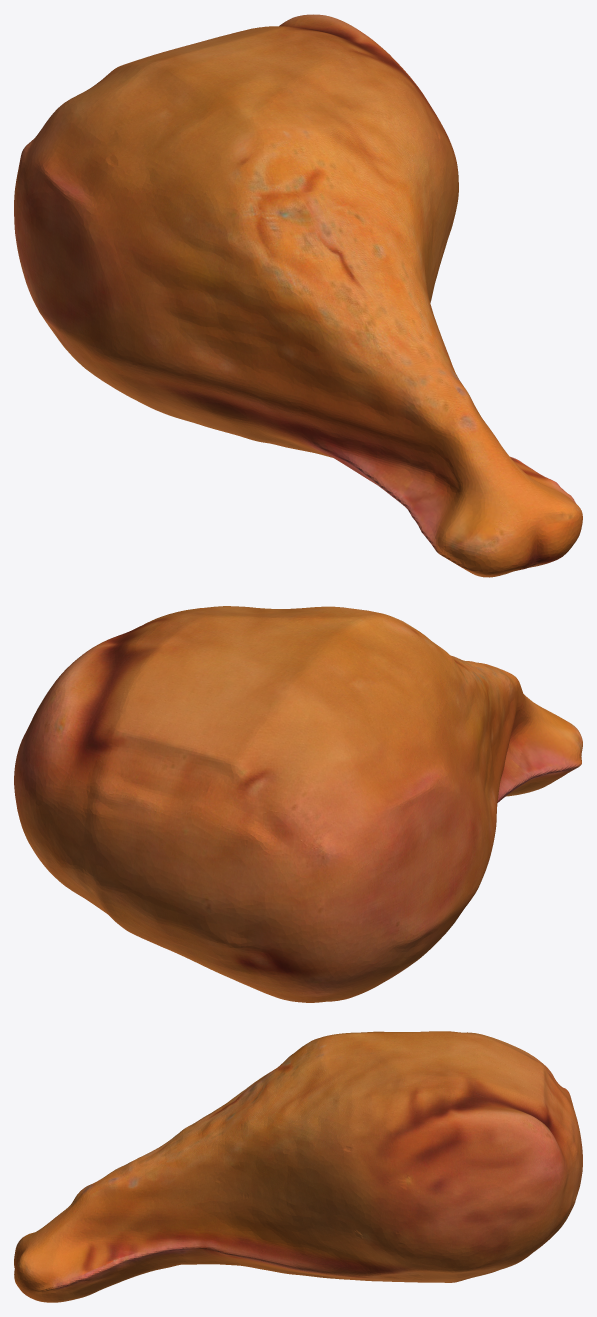
Rendered from image_0003_segmented.glb.
3 renders of one model, top to bottom at view 1: azimuth 30°, elevation 25°; view 2: azimuth 150°, elevation 25°; view 3: azimuth 270°, elevation 25°, orthographic. The views are drawn at different scales.
Visible parts, largest first — view 1: tmp5centiif.ply; view 2: tmp5centiif.ply; view 3: tmp5centiif.ply.
Boxes of the visible parts, x1,y1,x2,y2 form: tmp5centiif.ply: [14, 14, 582, 577]; tmp5centiif.ply: [14, 606, 582, 1002]; tmp5centiif.ply: [14, 1031, 582, 1302].
Bounding box in the file's own units: 1.15 × 0.9337 × 2.
1 material, 1 textured.
